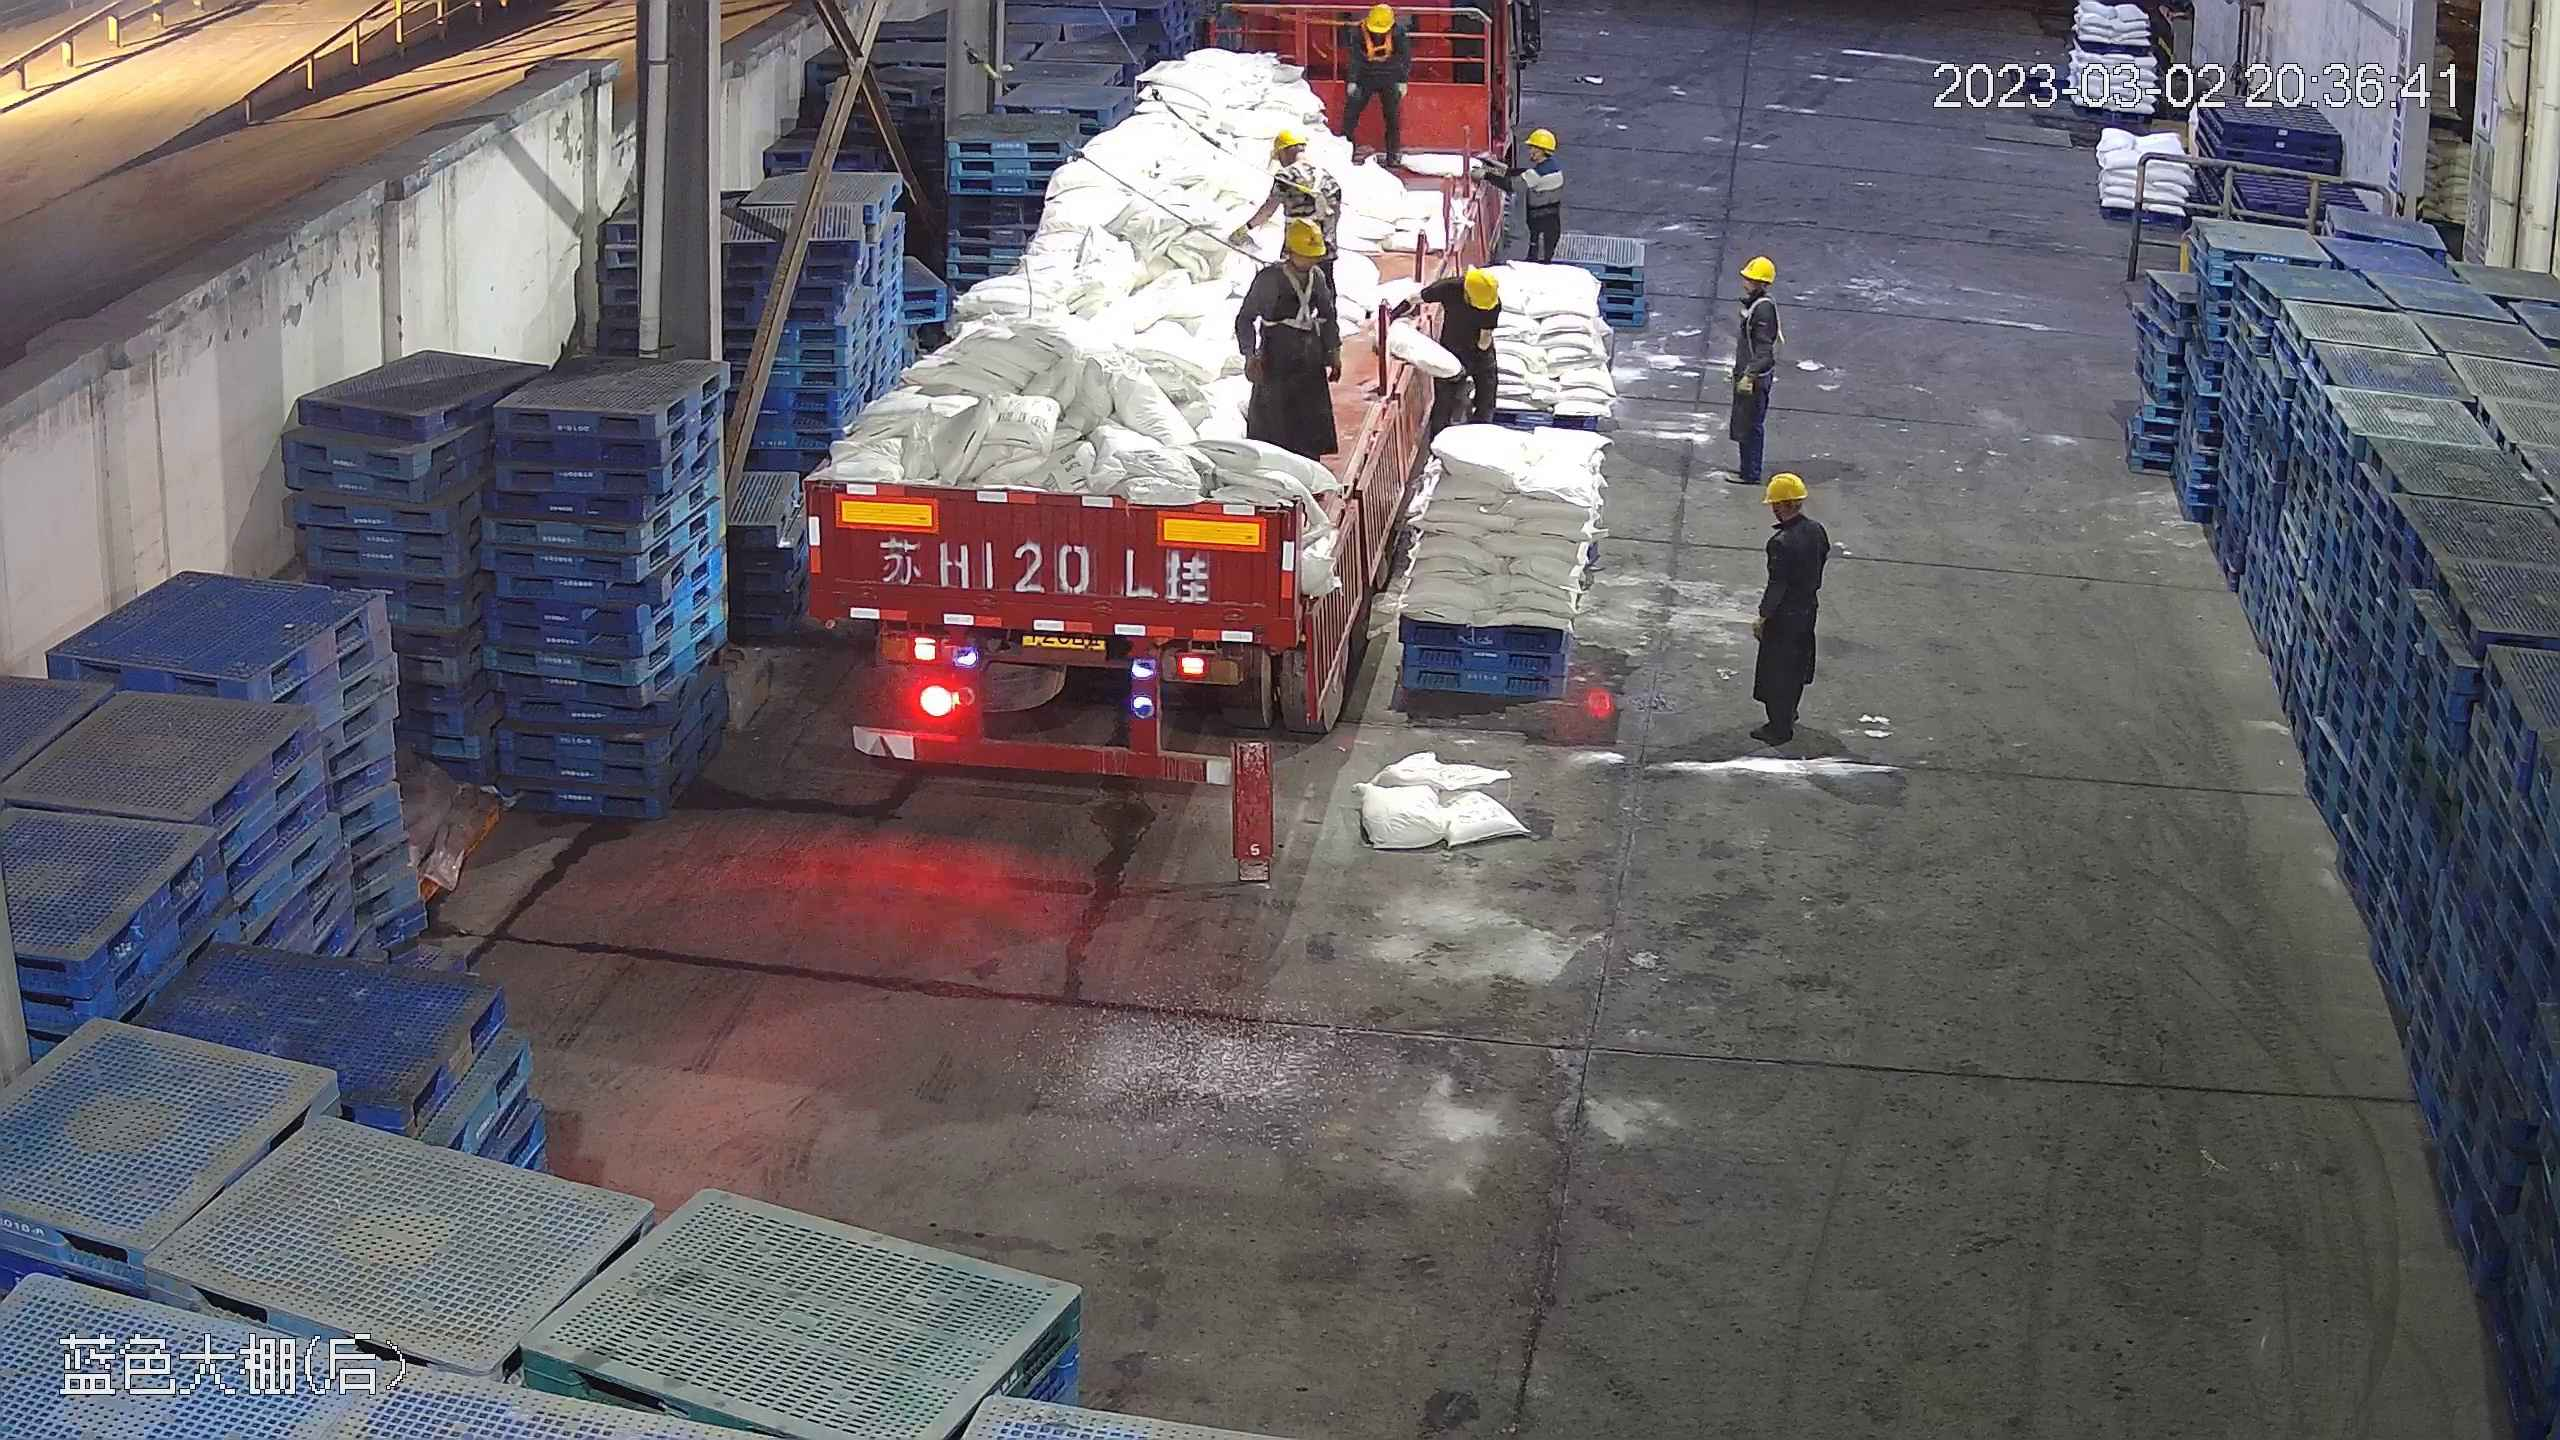belt: (1262, 255, 1326, 324), (1737, 288, 1784, 345), (1282, 167, 1331, 210), (1359, 24, 1396, 64)
head: (1252, 213, 1338, 303), (1758, 470, 1831, 560), (1428, 266, 1500, 330), (1262, 124, 1321, 186), (1733, 255, 1782, 324), (1508, 128, 1562, 184), (1355, 1, 1403, 50)
helmet: (1281, 216, 1329, 260), (1359, 2, 1401, 40), (1461, 266, 1499, 307), (1761, 470, 1808, 501), (1524, 128, 1558, 154), (1742, 255, 1776, 281), (1269, 127, 1303, 151)
people: (1238, 215, 1343, 465), (1748, 468, 1833, 750), (1403, 266, 1505, 425), (1723, 252, 1785, 486), (1339, 2, 1416, 172), (1490, 125, 1565, 269)
truck: (766, 1, 1526, 802)
